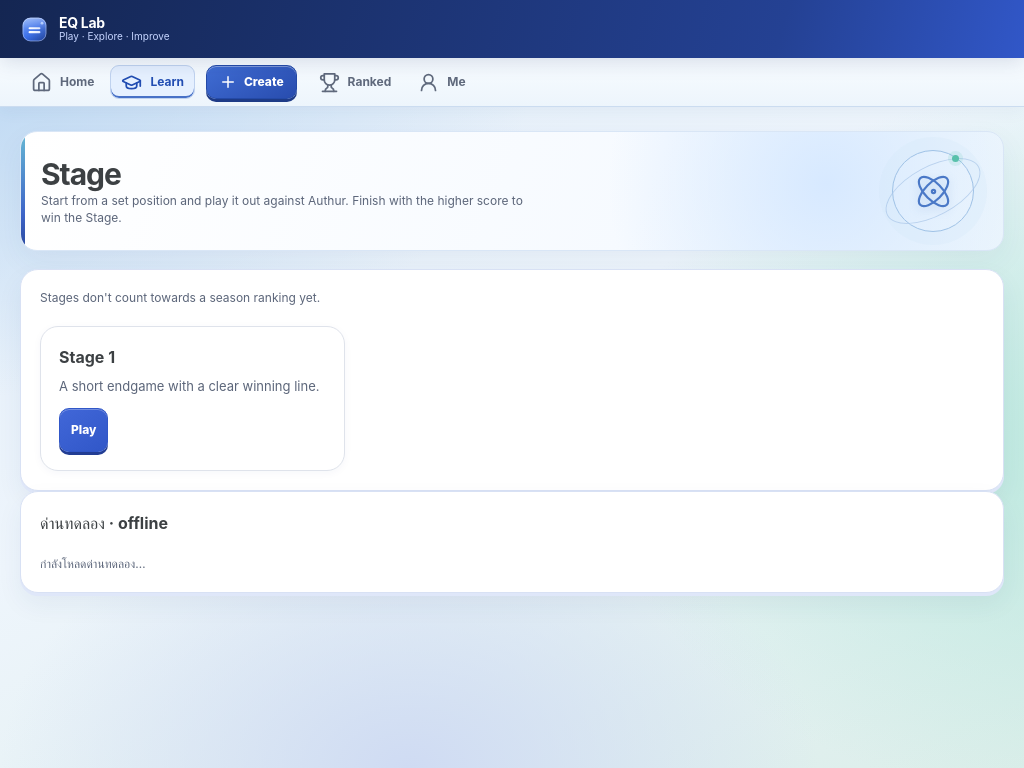
the Stage page › shows the server's refusal as it is
Step 1. Click the button with aria-label "Play Stage 1" → (84, 430), box [59, 408, 108, 452]
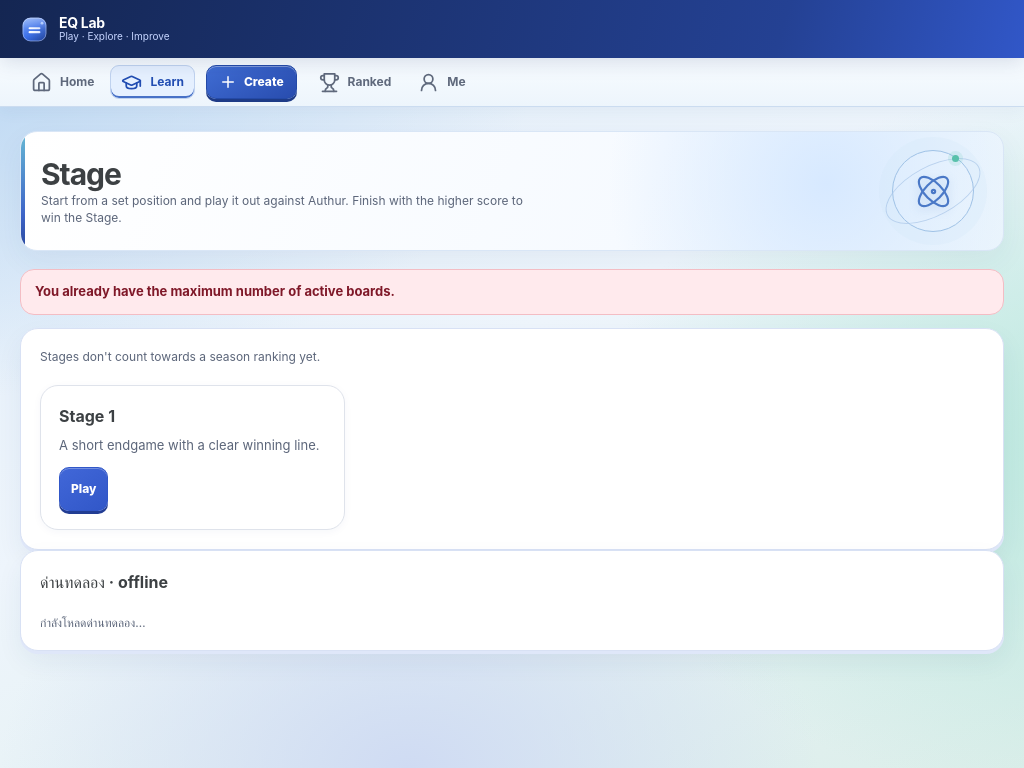
Expected: the message reads "You already have the maximum number of active boards.", [35, 283, 395, 299]
